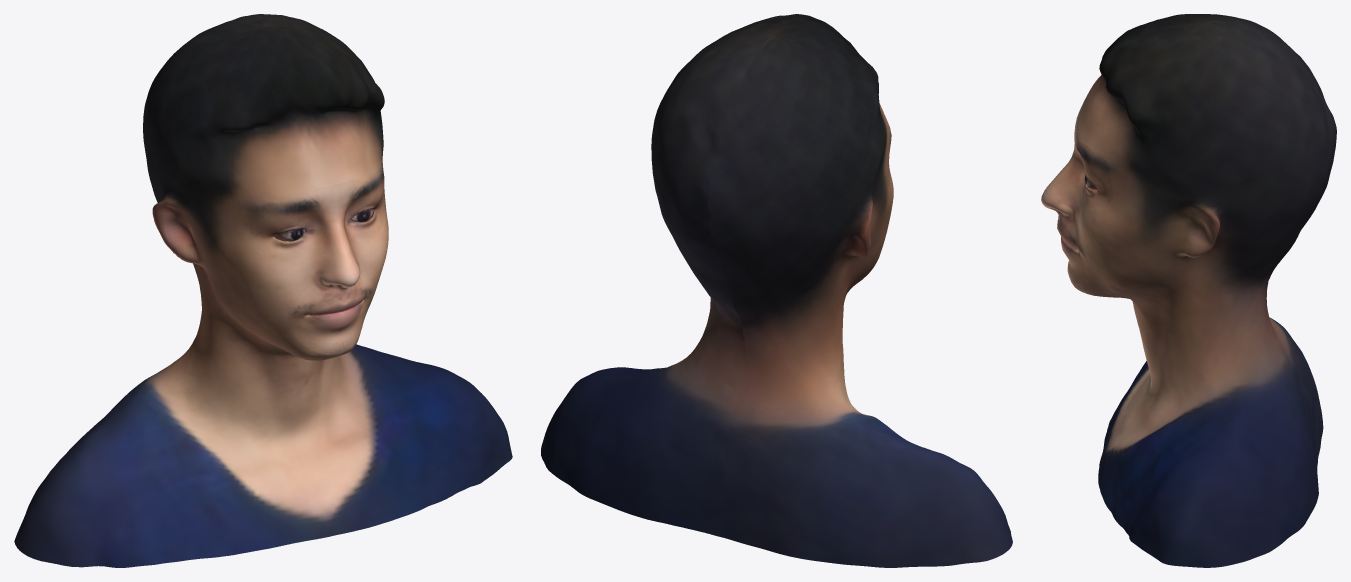
Rendered from Anyiheadiphonetestusdz.glb.
3 views of the same model, side by side, from view 1: azimuth 30°, elevation 25°; view 2: azimuth 150°, elevation 25°; view 3: azimuth 270°, elevation 25° (orthographic). The views are drawn at different scales.
Parts seen in each view (by area): view 1: model; view 2: model; view 3: model.
Part boxes in pixels (x1,y1,x2,y2): model: (14, 14, 512, 567); model: (541, 14, 1012, 567); model: (1041, 14, 1336, 567).
Bounding box in the file's own units: 0.4096 × 0.39 × 0.2372.
Materials: 1 (1 with a texture image).
